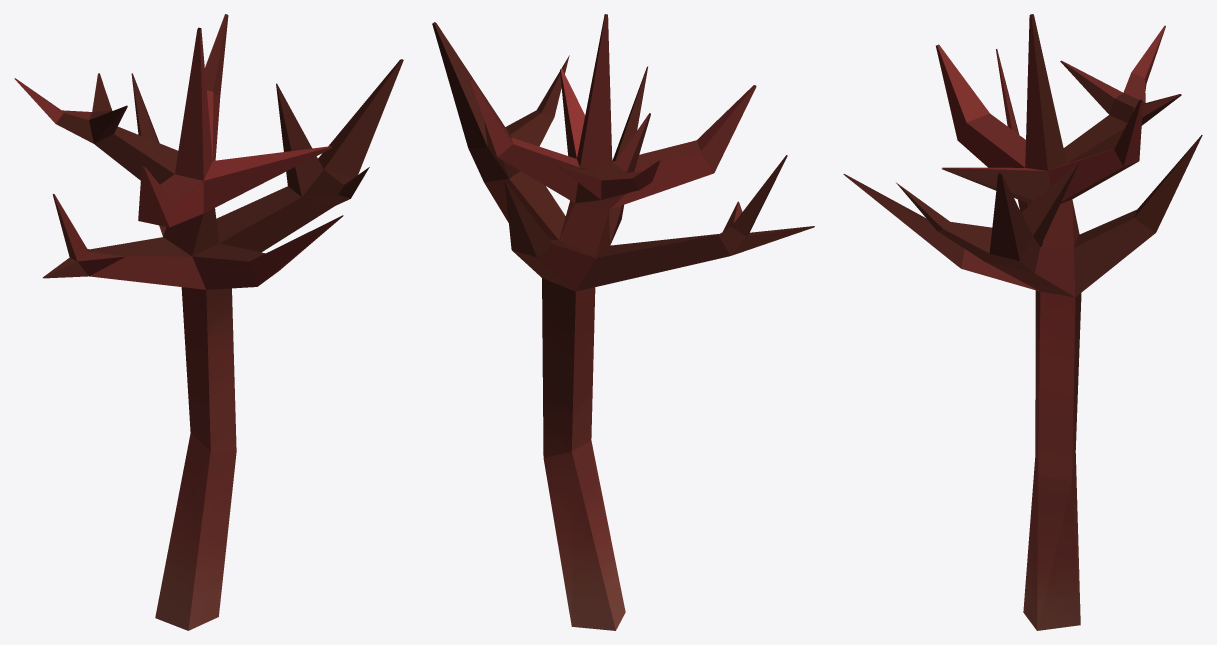
File: arvore-queimada-1.fbx
3 views of the same model, side by side, from view 1: azimuth 30°, elevation 25°; view 2: azimuth 150°, elevation 25°; view 3: azimuth 270°, elevation 25° (orthographic).
Parts seen in each view (by area): view 1: arvore-queimada-1; view 2: arvore-queimada-1; view 3: arvore-queimada-1.
Boxes of the visible parts, x1,y1,x2,y2 form: arvore-queimada-1: (14,14,403,630); arvore-queimada-1: (432,14,814,630); arvore-queimada-1: (843,14,1202,630).
Bounding box in the file's own units: 455 × 698 × 375.
